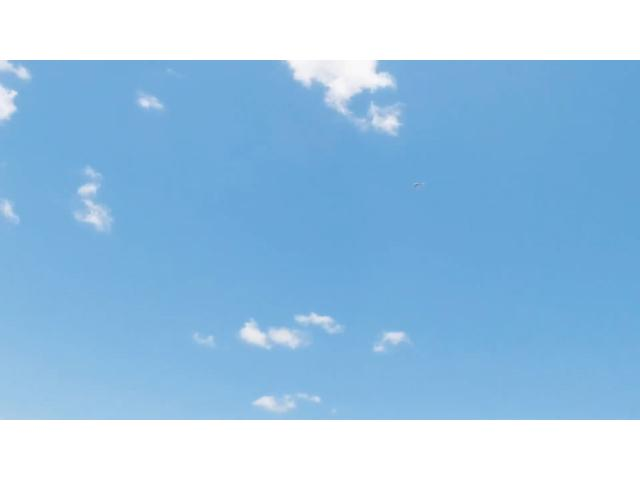Anti-Drone: (408, 180, 430, 190)
